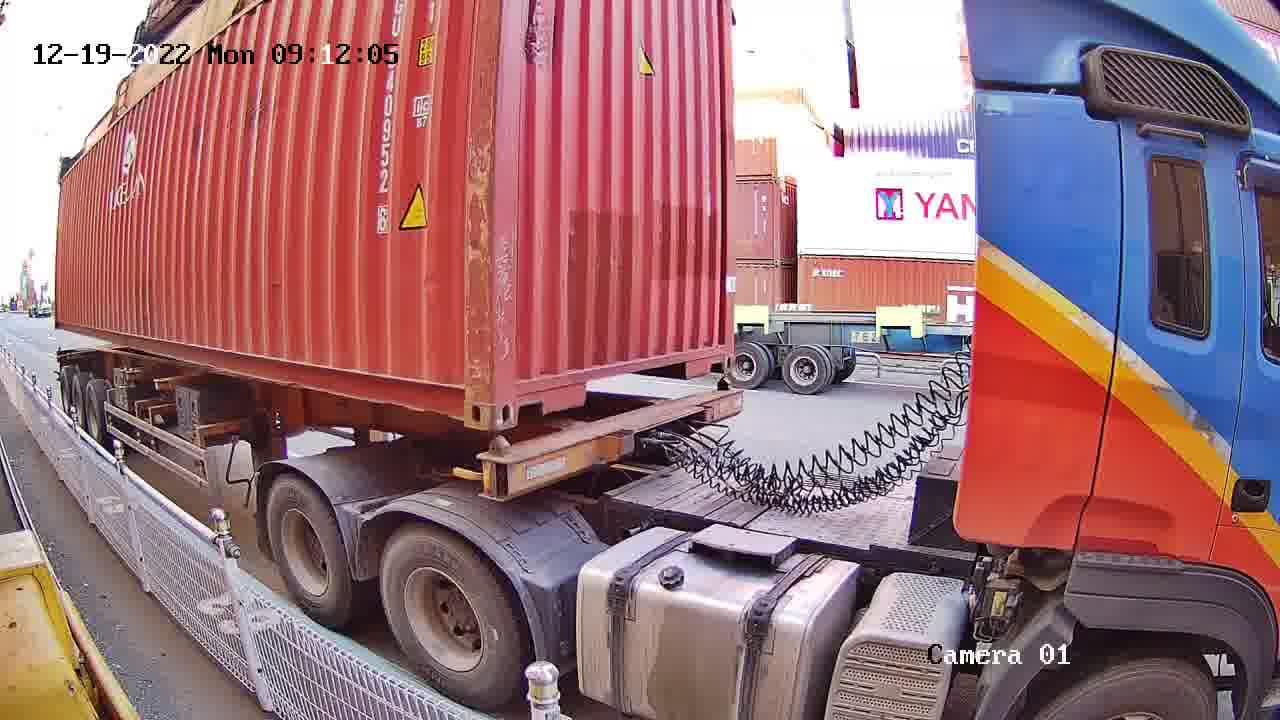Chassis: (479, 387, 743, 500)
Cone: (478, 433, 510, 498), (714, 378, 733, 416)
Hole_L: (492, 363, 544, 432)
Hole_R: (446, 369, 492, 433), (708, 333, 736, 373)
Tire: (385, 528, 514, 705), (266, 483, 346, 619)
